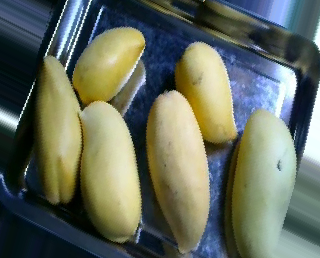Mango: (145, 91, 210, 252), (230, 109, 296, 254), (77, 101, 143, 241), (34, 55, 83, 203), (175, 41, 238, 144), (72, 26, 145, 111)
